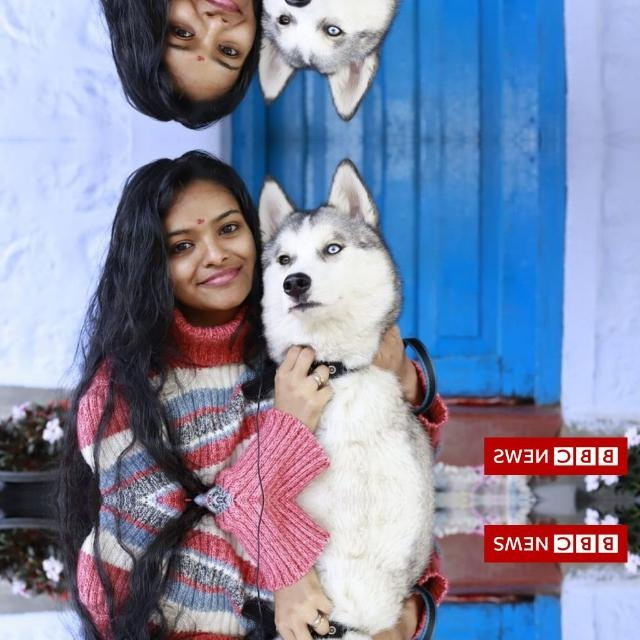dog: (257, 152, 399, 363), (257, 0, 399, 127), (257, 636, 399, 640)
